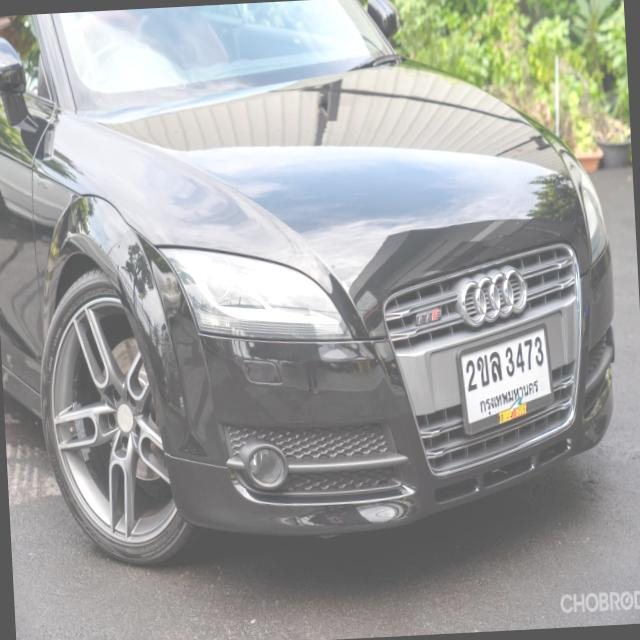license_plate: (456, 320, 558, 441)
